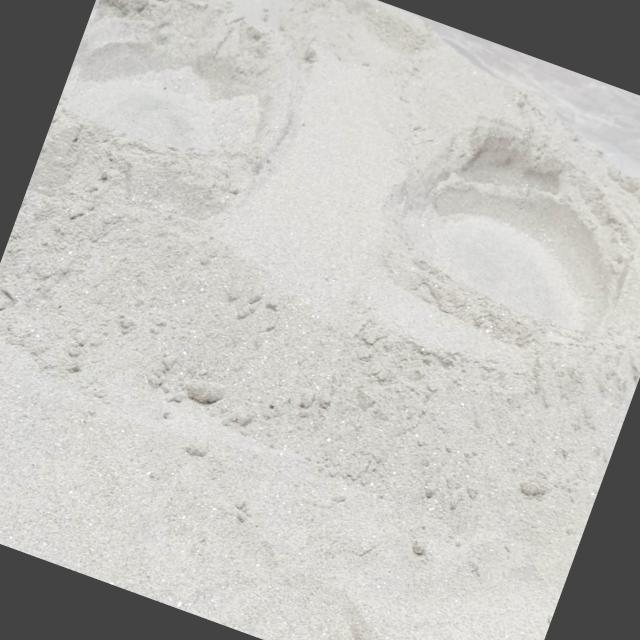C20: (403, 123, 637, 331), (67, 0, 280, 151)
